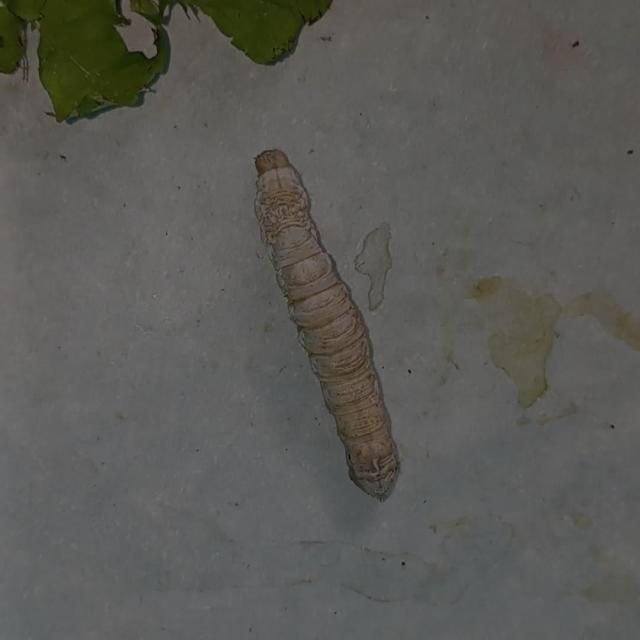Grasserie: (235, 136, 408, 505)
